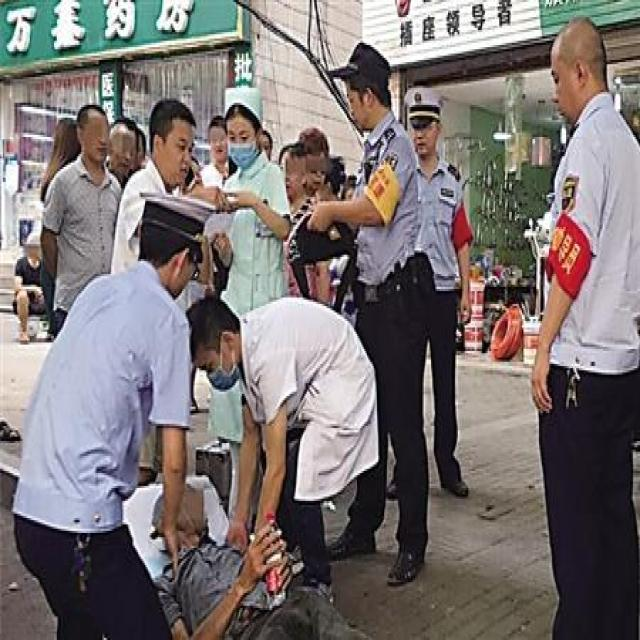10-: (6, 17, 638, 636)
down: (124, 458, 346, 638)
